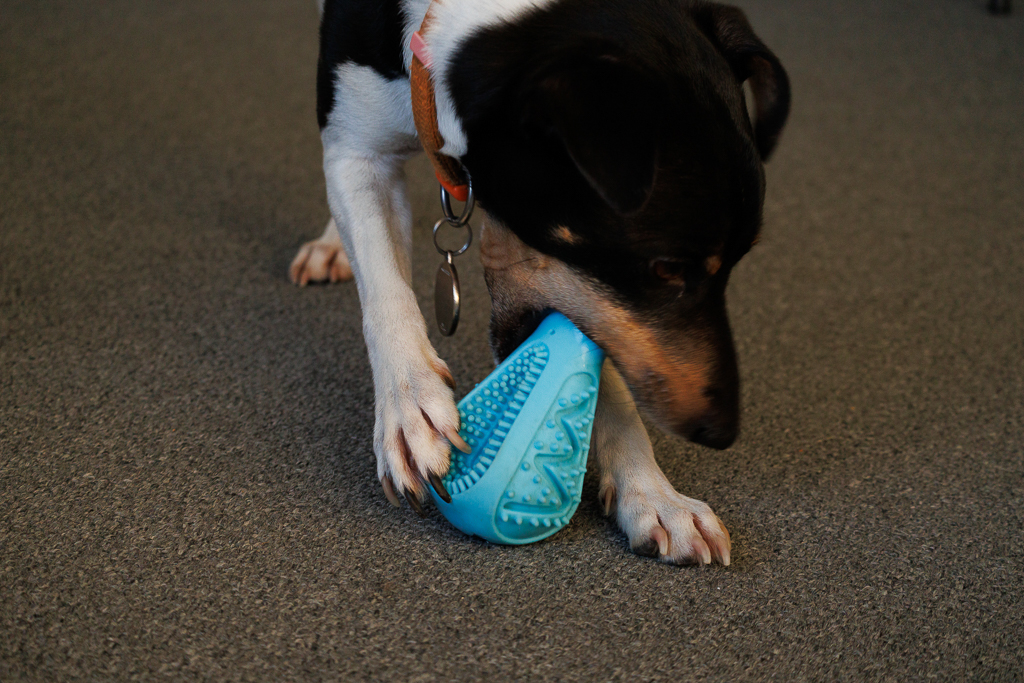Dog: (269, 0, 797, 583)
